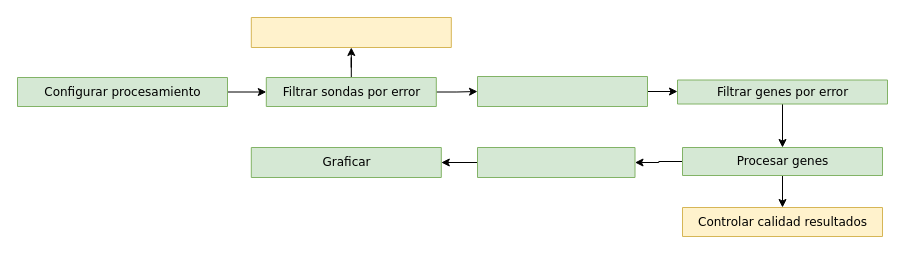
This 905x254 diagram has some shape labels left out. Here are the shapes that lost their labels. From the top down, the centre of each, then its label:
the point at 350,32: Controlar calidad de datos
the point at 562,91: Mapear y filtrar sondas
the point at 555,162: Enriquecer
